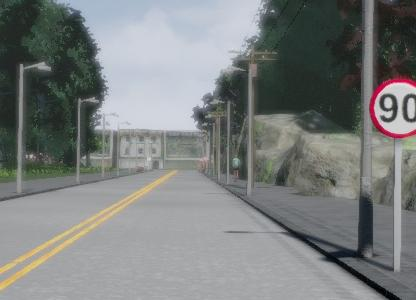Speed_90: (369, 75, 416, 137)
